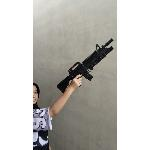Senapan: (54, 34, 116, 96)
